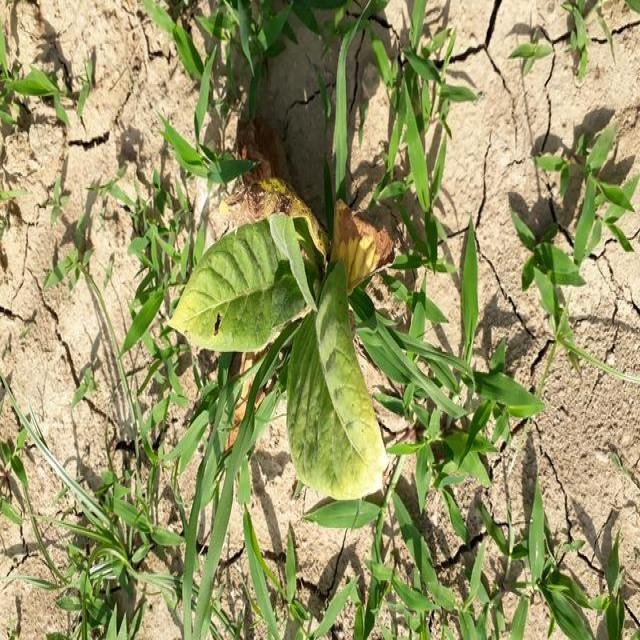crop: (173, 191, 384, 518)
